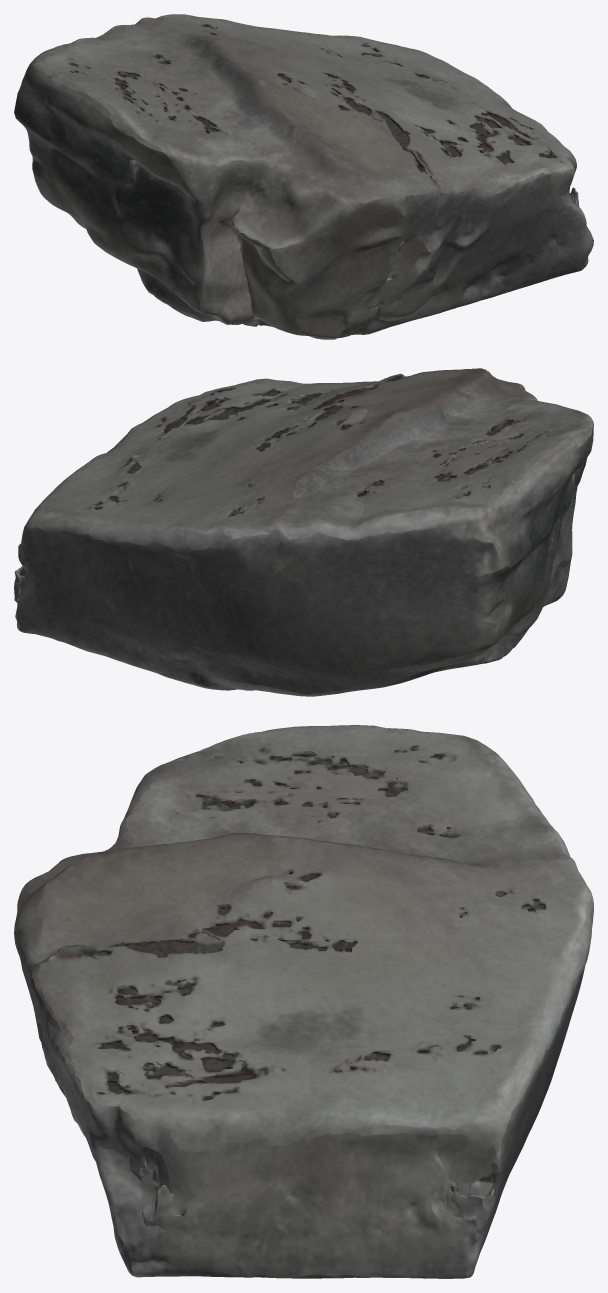
The picture shows the model from 3 angles, top to bottom: view 1: azimuth 30°, elevation 25°; view 2: azimuth 150°, elevation 25°; view 3: azimuth 270°, elevation 25°; orthographic projection. The views are drawn at different scales.
Parts seen in each view (by area): view 1: world; view 2: world; view 3: world.
Part boxes in pixels (box(x1,y1,x2,y2)): world: box(14, 14, 593, 339); world: box(14, 368, 593, 696); world: box(14, 725, 593, 1278).
Bounding box in the file's own units: 0.45 × 0.2152 × 0.3909.
1 material, 1 textured.
